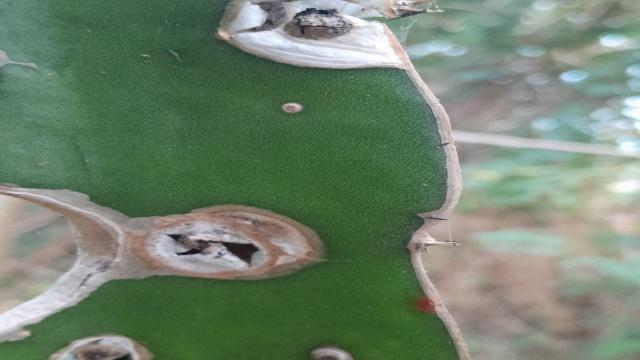stemcanker: (412, 294, 442, 316), (279, 100, 305, 116)
